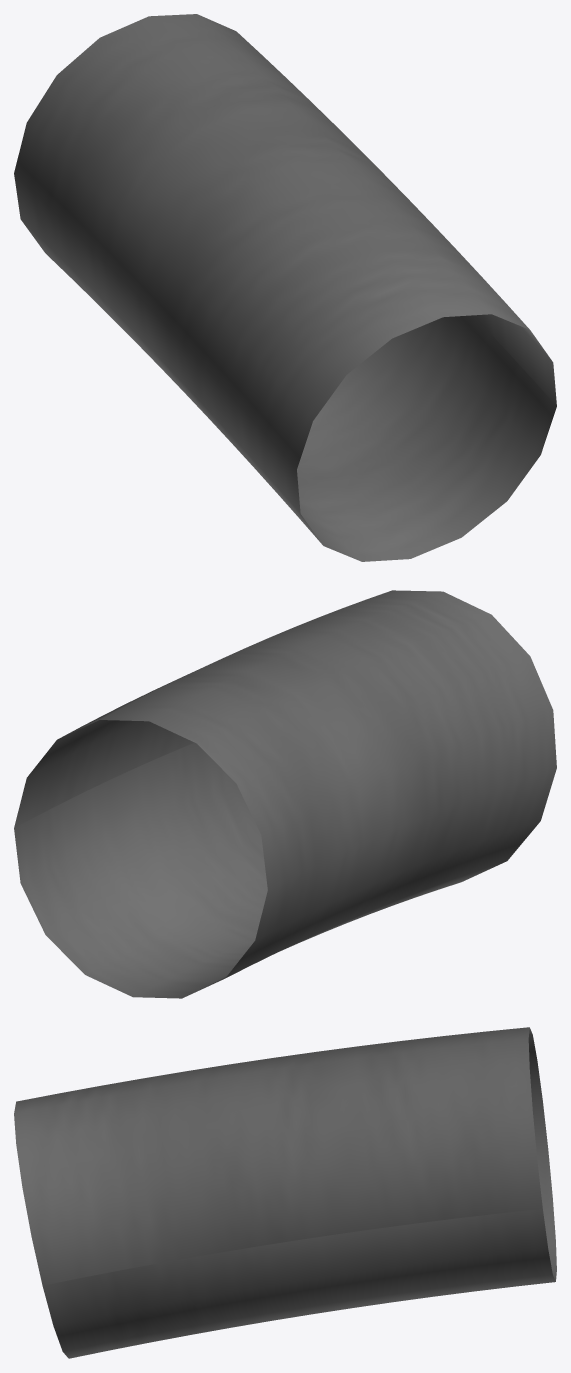
Rendered from mastarmcurve_6x2_c6.obj.
3 renders of one model, top to bottom at view 1: azimuth 30°, elevation 25°; view 2: azimuth 150°, elevation 25°; view 3: azimuth 270°, elevation 25°, orthographic. The views are drawn at different scales.
Visible parts, largest first — view 1: mastarm_6x2_c6; view 2: mastarm_6x2_c6; view 3: mastarm_6x2_c6.
Part boxes in pixels (box(x1,y1,x2,y2)): mastarm_6x2_c6: box(14, 14, 556, 561); mastarm_6x2_c6: box(14, 590, 556, 998); mastarm_6x2_c6: box(14, 1027, 556, 1358).
Size of the model in its own units: 0.525 by 0.6776 by 1.09.
